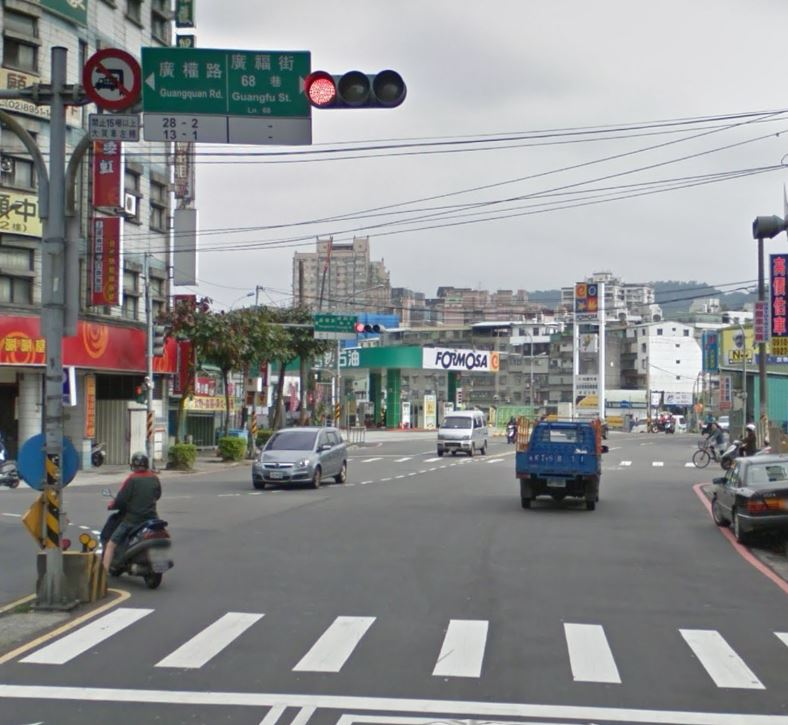Traffic_light_red: (303, 70, 407, 109)
